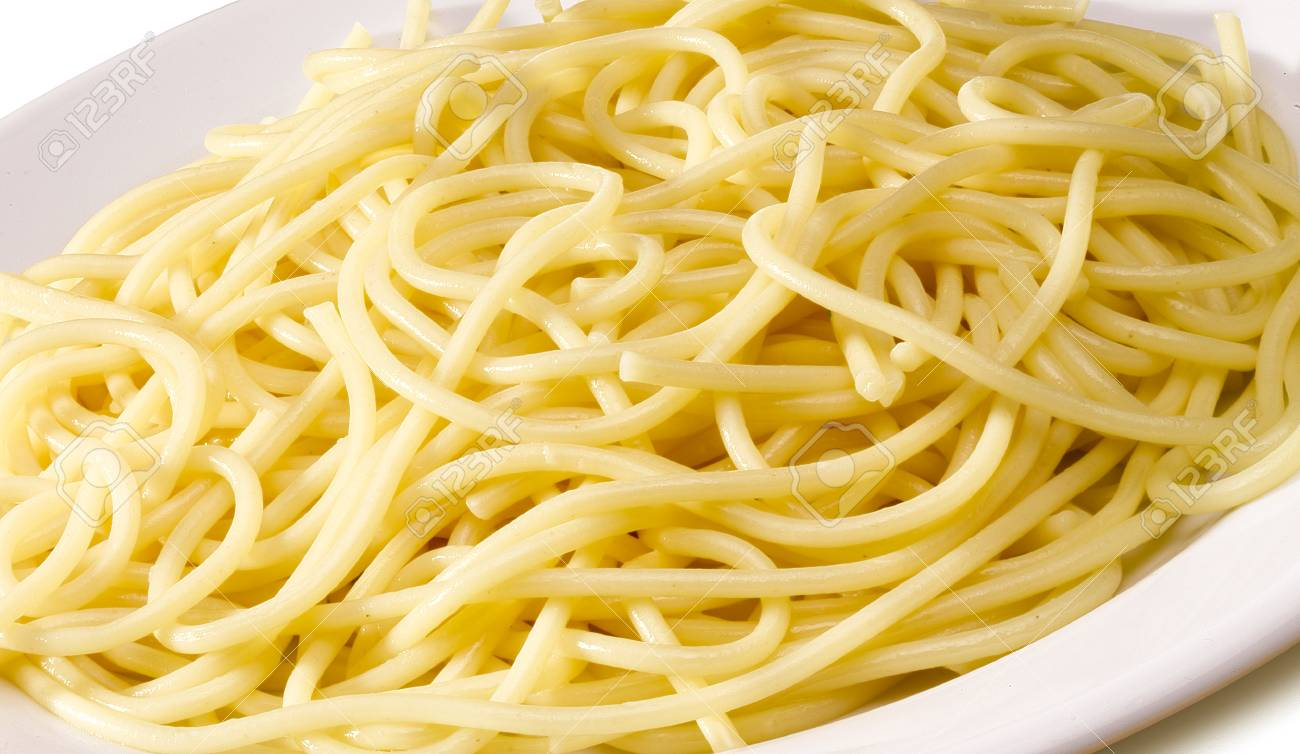plain spaghetti: (97, 30, 1206, 681)
